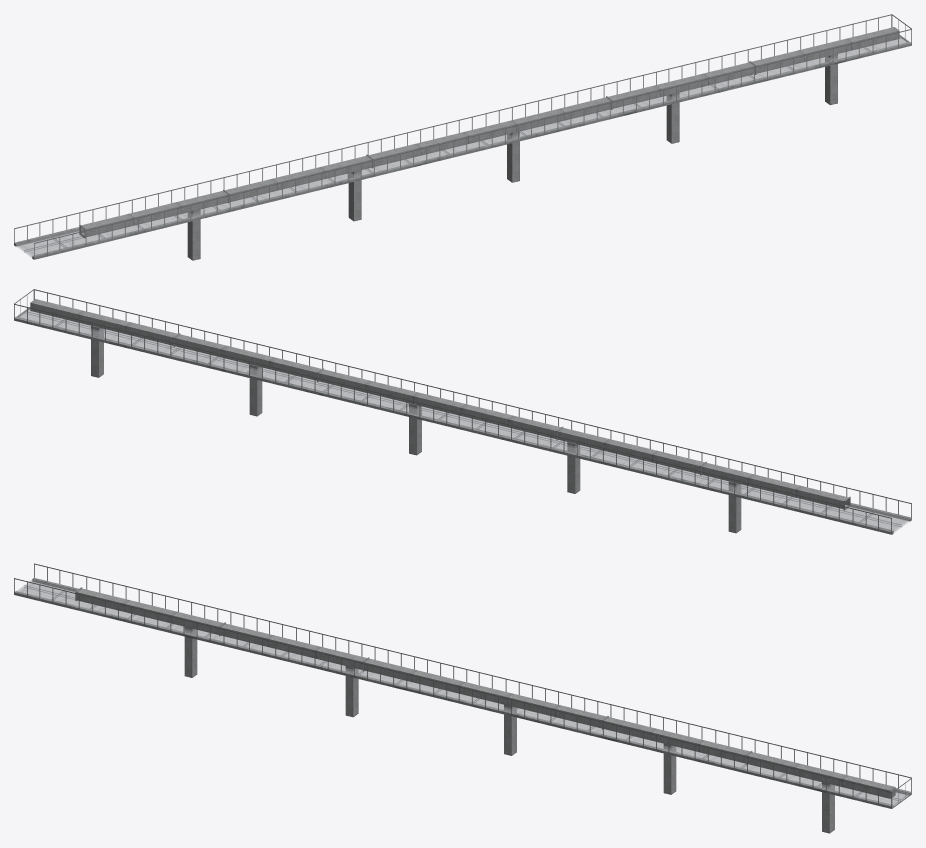
File: plant-metal2.glb
3 renders of one model, top to bottom at view 1: azimuth 30°, elevation 25°; view 2: azimuth 150°, elevation 25°; view 3: azimuth 330°, elevation 25°, orthographic.
Parts seen in each view (by area): view 1: Object8934416; view 2: Object8934416; view 3: Object8934416.
Boxes of the visible parts, box(x1,y1,x2,y2) form: Object8934416: box(14, 14, 911, 260); Object8934416: box(14, 289, 911, 534); Object8934416: box(14, 563, 911, 833).
Bounding box in the file's own units: 64.32 × 4.36 × 2.54.
1 material, 1 textured.
